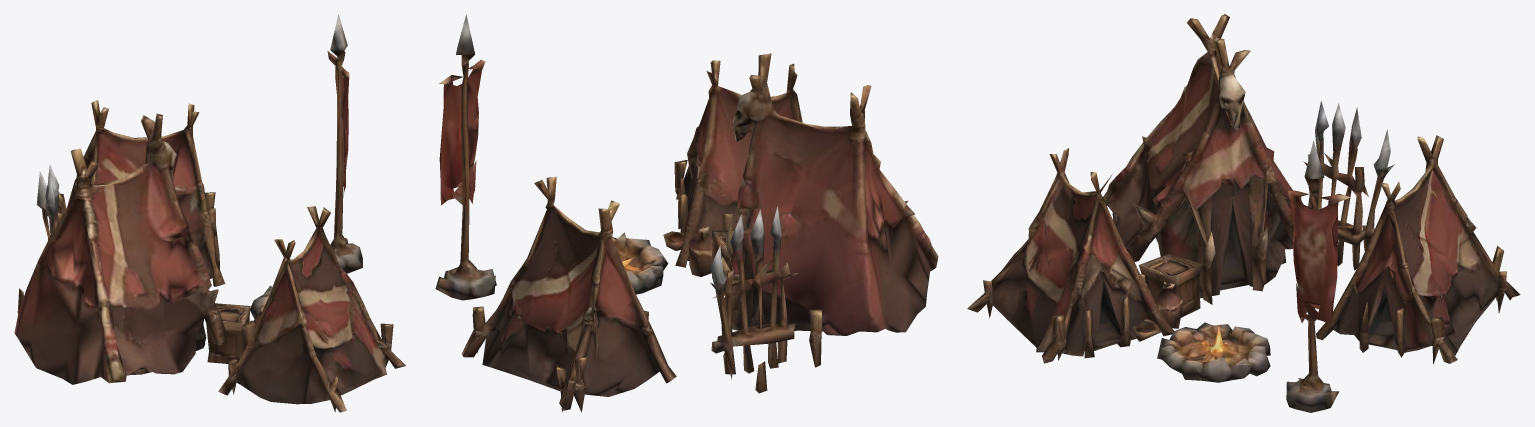
The model's file is camp.glb.
3 renders of one model, left to right at view 1: azimuth 30°, elevation 25°; view 2: azimuth 150°, elevation 25°; view 3: azimuth 270°, elevation 25°, orthographic. The views are drawn at different scales.
Parts seen in each view (by area): view 1: tripo_node_d9673885-1354-4a73-bed2-25336795d798; view 2: tripo_node_d9673885-1354-4a73-bed2-25336795d798; view 3: tripo_node_d9673885-1354-4a73-bed2-25336795d798.
Boxes of the visible parts, left/top/right/bottom form: tripo_node_d9673885-1354-4a73-bed2-25336795d798: left=14, top=14, right=405, bottom=412; tripo_node_d9673885-1354-4a73-bed2-25336795d798: left=435, top=14, right=938, bottom=412; tripo_node_d9673885-1354-4a73-bed2-25336795d798: left=967, top=14, right=1520, bottom=412.
Size of the model in its own units: 0.8133 by 0.5255 by 1.
Materials: 1 (1 with a texture image).
